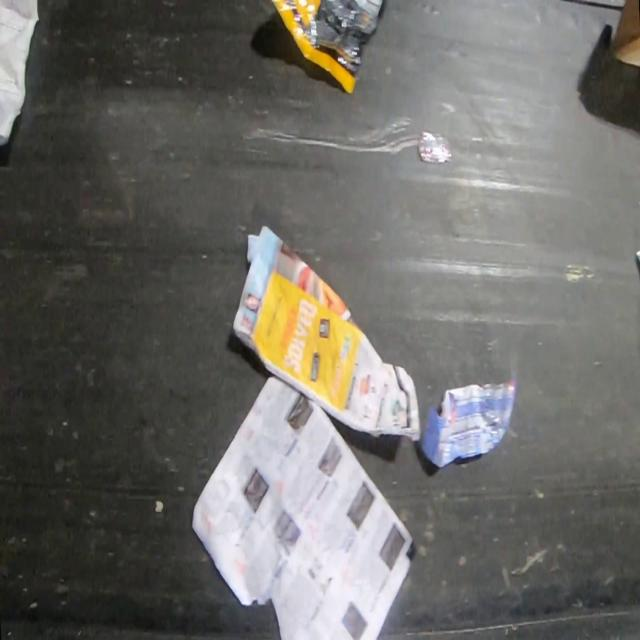cardboard: (232, 223, 422, 442), (610, 0, 640, 66)
soft_plastic: (268, 0, 382, 93), (415, 368, 518, 468)
